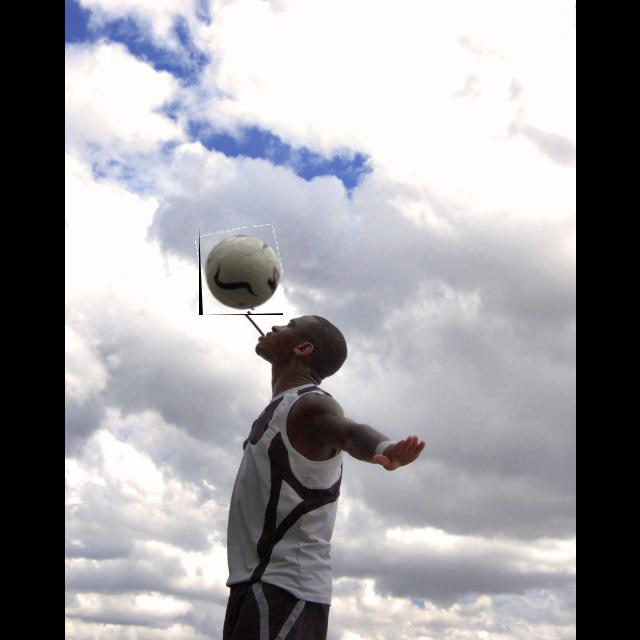Football: (199, 227, 283, 315)
